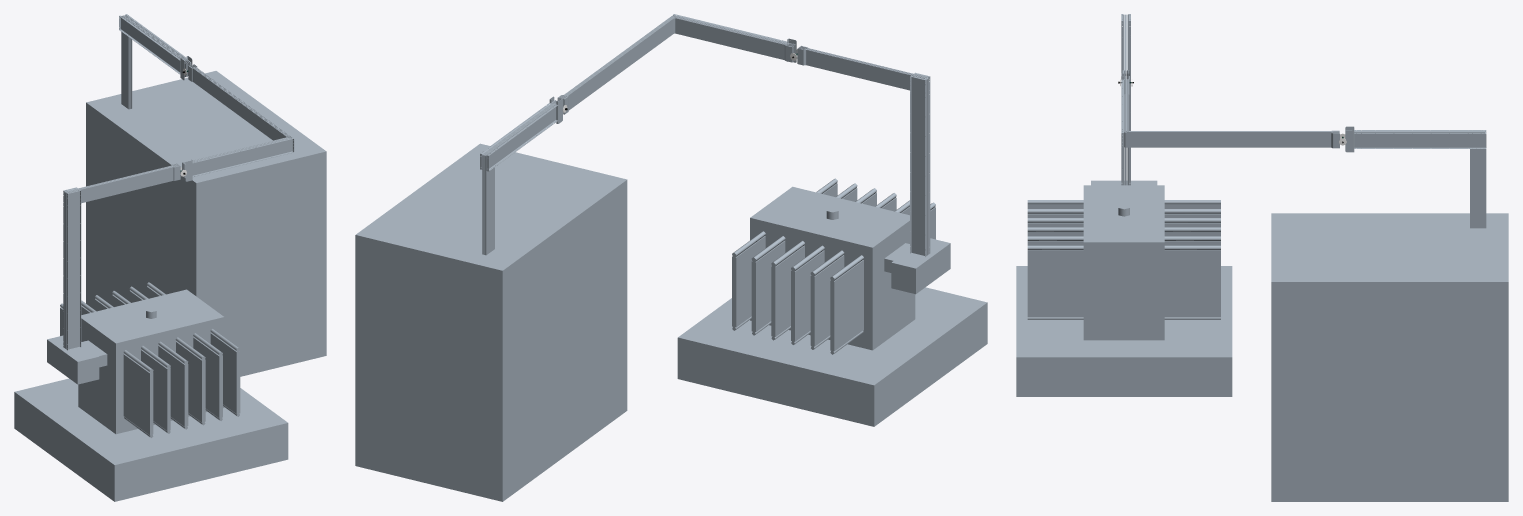
File: buswayrun_scaledown.obj
3 renders of one model, left to right at view 1: azimuth 30°, elevation 25°; view 2: azimuth 150°, elevation 25°; view 3: azimuth 270°, elevation 25°, orthographic. The views are drawn at different scales.
Parts seen in each view (by area): view 1: 1, 22, 21, 11; view 2: 1, 22, 21, 11; view 3: 1, 22, 11, 21.
Boxes of the visible parts, x1,y1,x2,y2 form: 1: (66,14,326,376); 22: (14,282,288,501); 21: (63,163,179,350); 11: (67,64,294,295); 1: (355,17,929,501); 22: (677,178,987,426); 21: (797,46,932,257); 11: (557,14,929,192); 1: (1121,14,1508,501); 22: (1016,180,1232,396); 11: (1121,73,1339,148); 21: (1121,14,1130,185).
Bounding box in the file's own units: 5.11 × 4.35 × 6.08.
